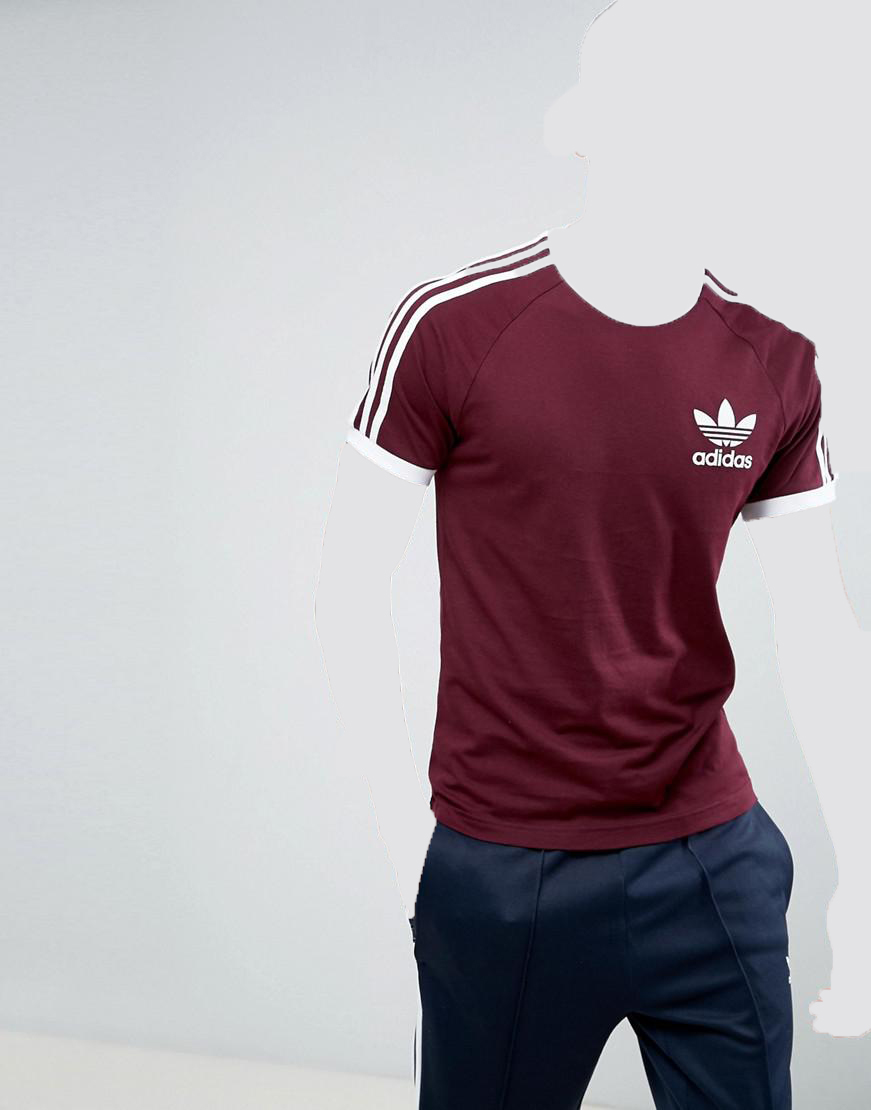teeshirt: (344, 235, 844, 835)
